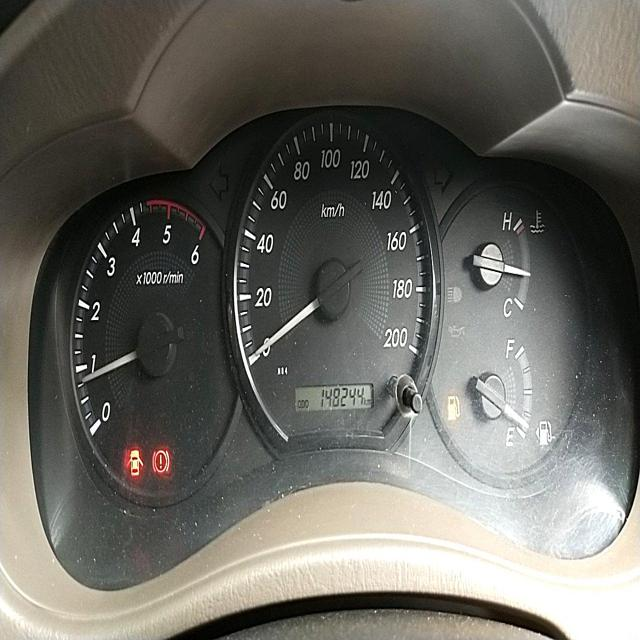odometer: (318, 385, 367, 410)
